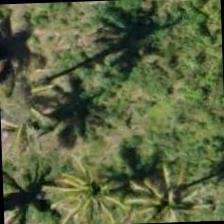Kelapa_Sawit: (124, 150, 218, 222), (42, 153, 136, 223)
